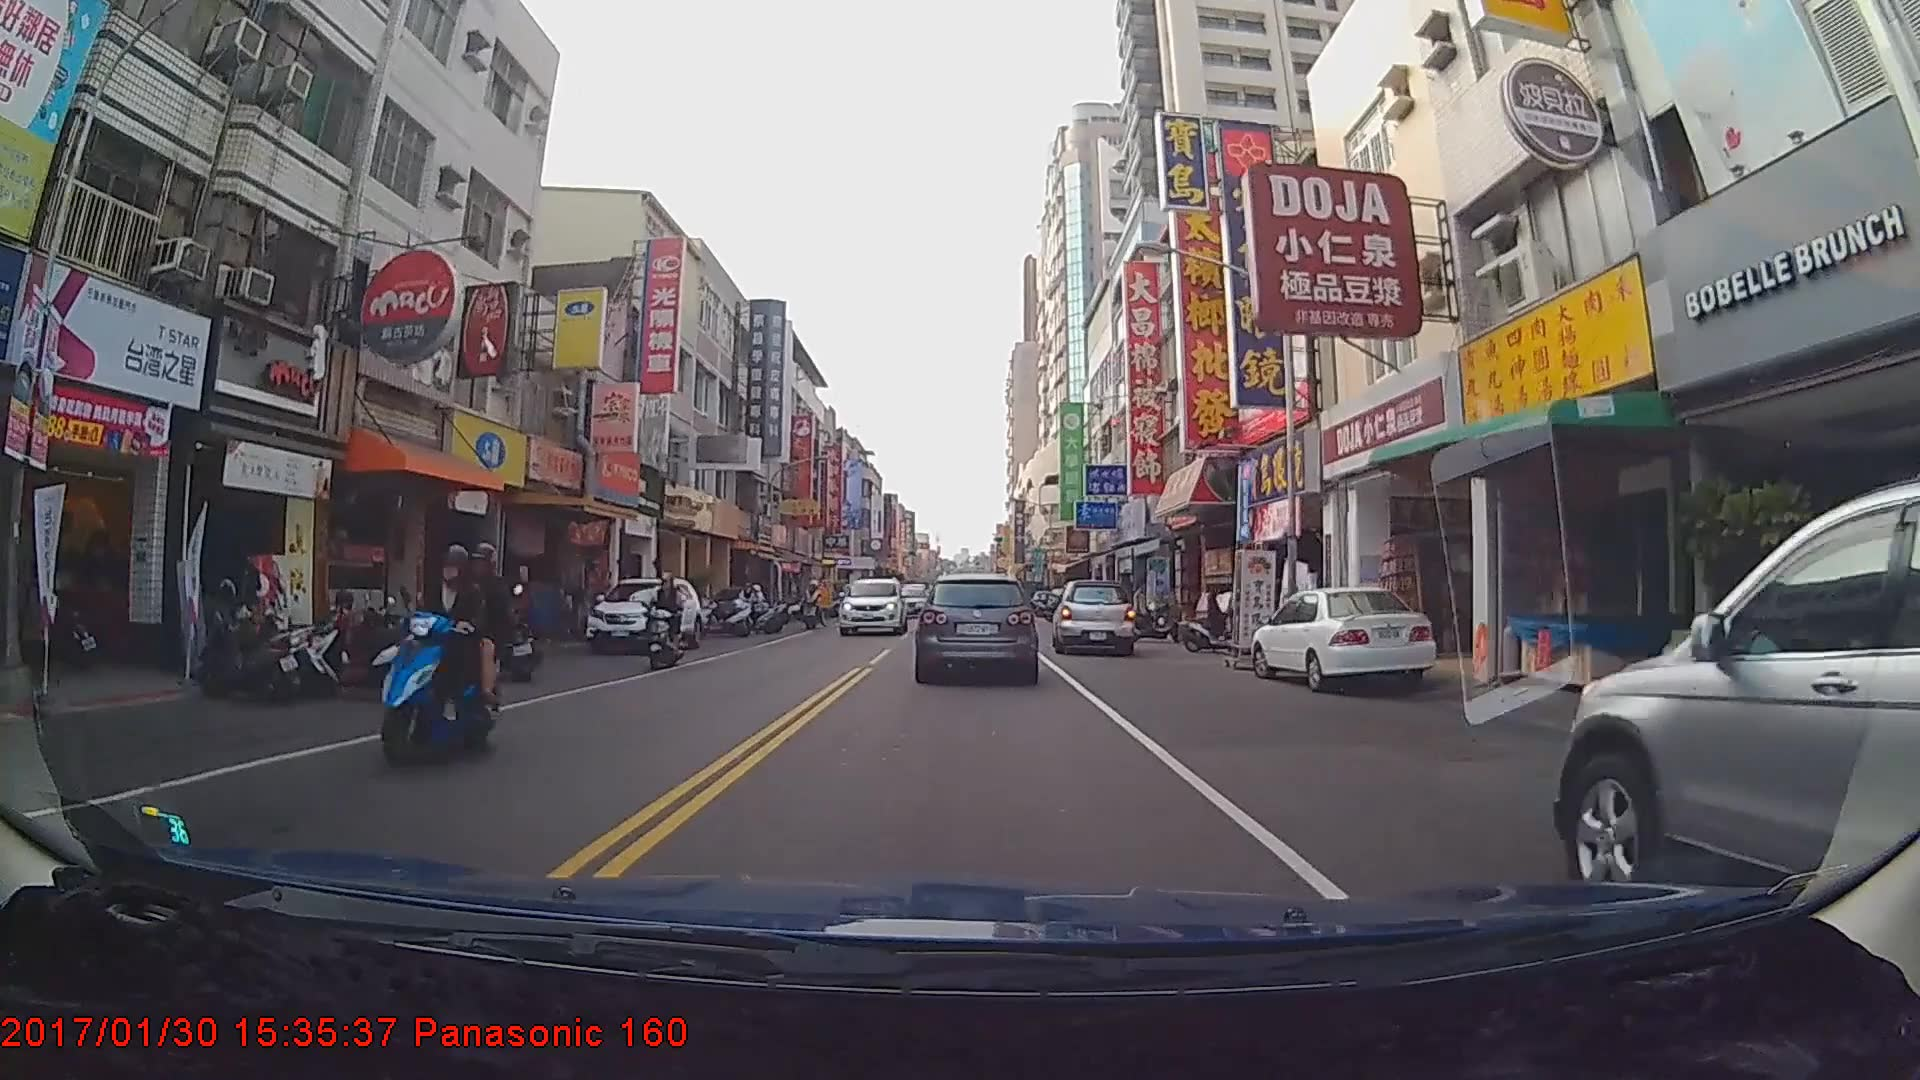rider: (381, 540, 515, 771), (1183, 584, 1252, 655), (645, 570, 692, 669)
vehicle: (1555, 482, 1920, 1019), (1252, 582, 1434, 687), (914, 572, 1037, 679), (583, 576, 702, 654), (1052, 578, 1135, 654), (837, 574, 908, 636)
